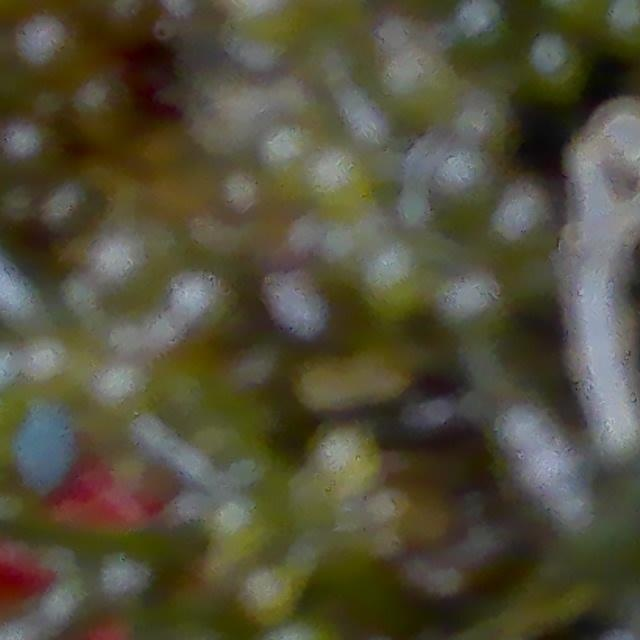SeaGrape: (75, 81, 132, 152), (0, 116, 70, 167), (10, 16, 75, 67), (527, 34, 579, 92), (600, 104, 640, 161)
